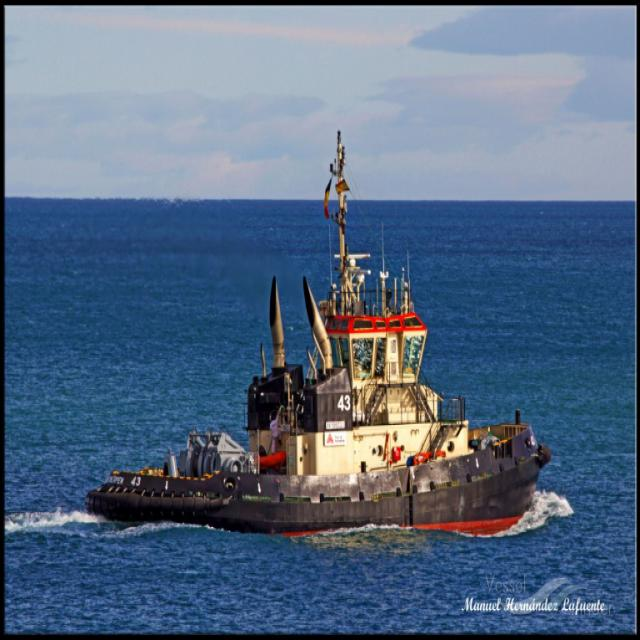tugboat: (96, 283, 547, 533)
